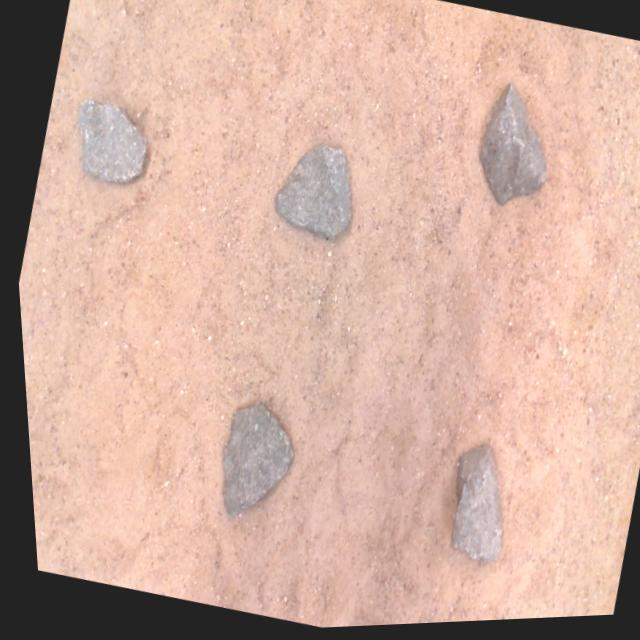rock: (477, 87, 543, 209), (216, 405, 286, 516), (272, 148, 348, 241), (444, 448, 494, 565), (77, 100, 144, 183)
